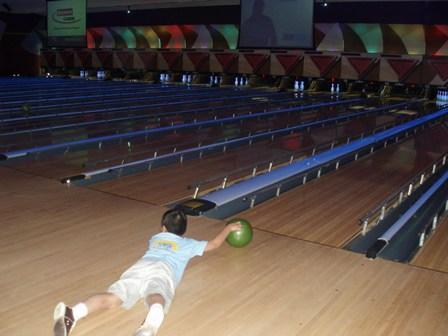Fall-Detected: (45, 202, 249, 334)
